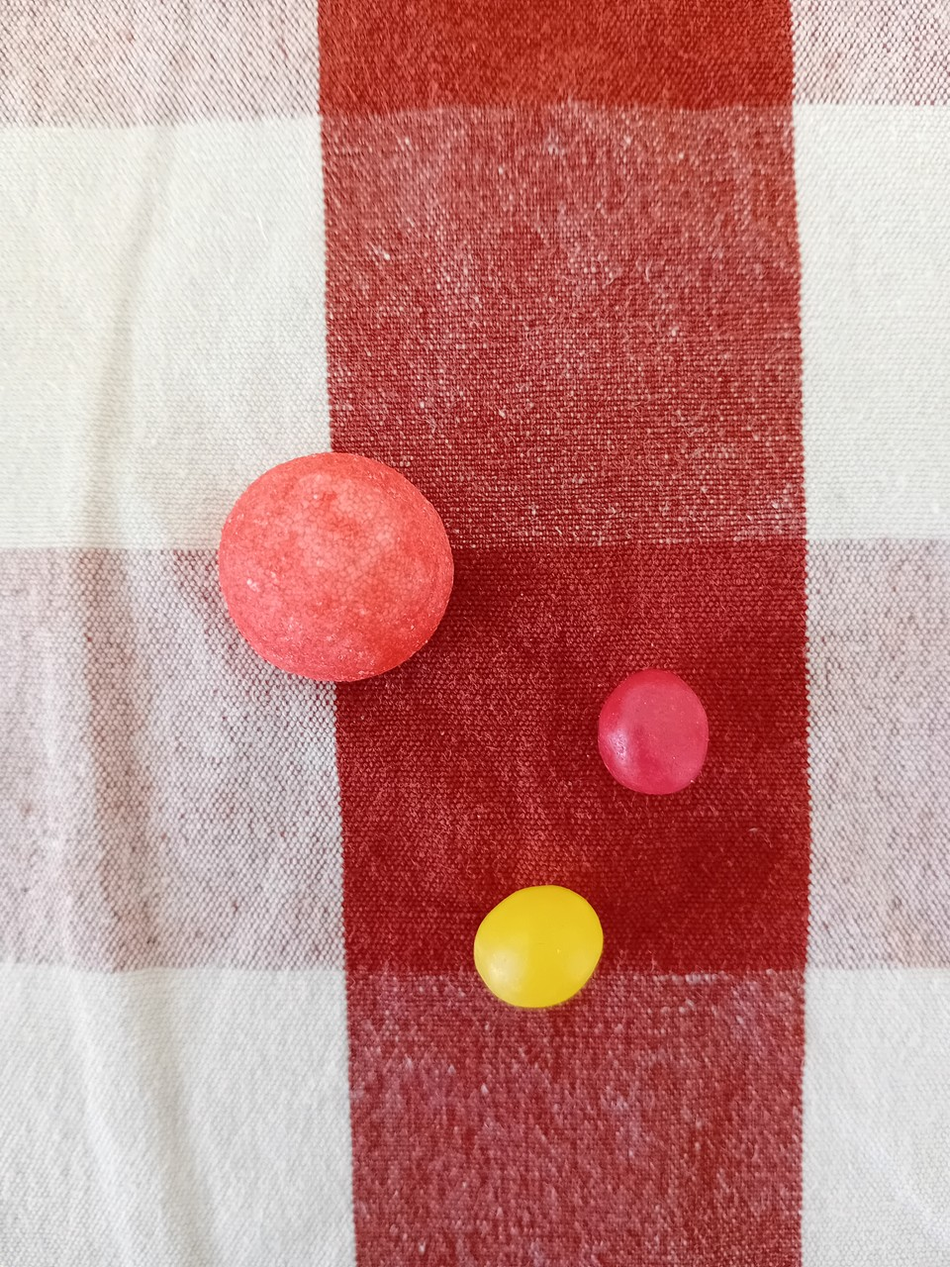dragibus_jaune: (455, 880, 621, 1019)
dragibus_rouge: (583, 664, 716, 801)
tagada_fraise: (209, 441, 459, 700)
